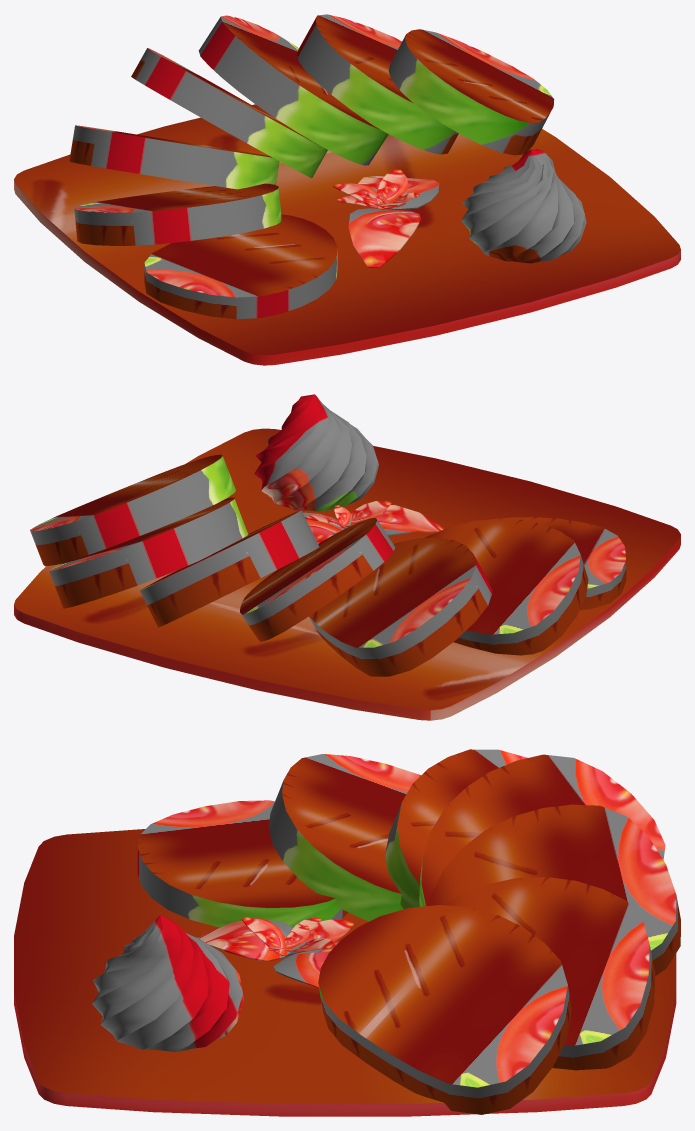
The model's file is 11_4_bolo_de_rollo.fbx.
The picture shows the model from 3 angles, top to bottom: view 1: azimuth 30°, elevation 25°; view 2: azimuth 150°, elevation 25°; view 3: azimuth 270°, elevation 25°; orthographic projection. The views are drawn at different scales.
Parts seen in each view (by area): view 1: Cube.002, Circle.011, Circle.005, Circle.007, Circle.006, Icecream.002, Circle.010, Circle.009, Circle.008, Plane.004, Plane.002; view 2: Cube.002, Circle.009, Circle.010, Circle.005, Icecream.002, Circle.006, Circle.008, Circle.007, Circle.011, Plane.004, Plane.002; view 3: Cube.002, Circle.005, Circle.006, Circle.007, Circle.011, Circle.010, Icecream.002, Circle.008, Circle.009, Plane.004, Plane.002.
Part boxes in pixels (<box>): Cube.002: <box>14,104,680,365</box>; Circle.011: <box>144,214,337,319</box>; Circle.005: <box>388,29,554,155</box>; Circle.007: <box>198,15,388,165</box>; Circle.006: <box>297,14,458,154</box>; Icecream.002: <box>461,149,586,263</box>; Circle.010: <box>74,183,281,245</box>; Circle.009: <box>69,125,279,189</box>; Circle.008: <box>131,48,327,177</box>; Plane.004: <box>333,169,421,268</box>; Plane.002: <box>357,176,439,209</box>; Cube.002: <box>14,428,680,720</box>; Circle.009: <box>309,537,492,676</box>; Circle.010: <box>424,518,588,655</box>; Circle.005: <box>30,454,235,566</box>; Icecream.002: <box>254,394,378,511</box>; Circle.006: <box>49,497,248,608</box>; Circle.008: <box>240,518,395,641</box>; Circle.007: <box>140,510,319,627</box>; Circle.011: <box>502,517,626,609</box>; Plane.004: <box>305,501,444,535</box>; Plane.002: <box>303,512,344,543</box>; Cube.002: <box>14,829,676,1116</box>; Circle.005: <box>318,905,571,1114</box>; Circle.006: <box>445,877,655,1070</box>; Circle.007: <box>428,804,680,975</box>; Circle.011: <box>137,800,347,927</box>; Circle.010: <box>268,754,420,921</box>; Icecream.002: <box>92,915,243,1051</box>; Circle.008: <box>419,754,665,906</box>; Circle.009: <box>385,749,527,909</box>; Plane.004: <box>198,917,354,961</box>; Plane.002: <box>273,941,338,988</box>.
Bounding box in the file's own units: 5.51 × 1.43 × 5.29.
